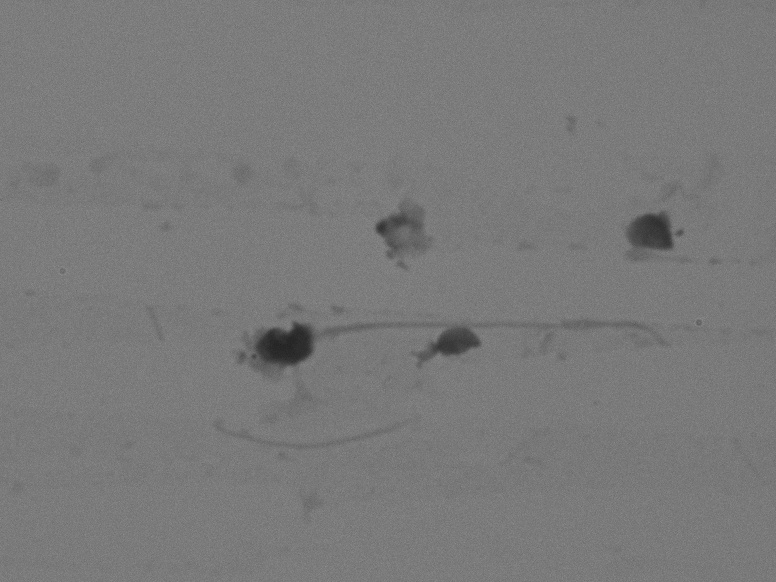Abnormal: (229, 280, 708, 428)
